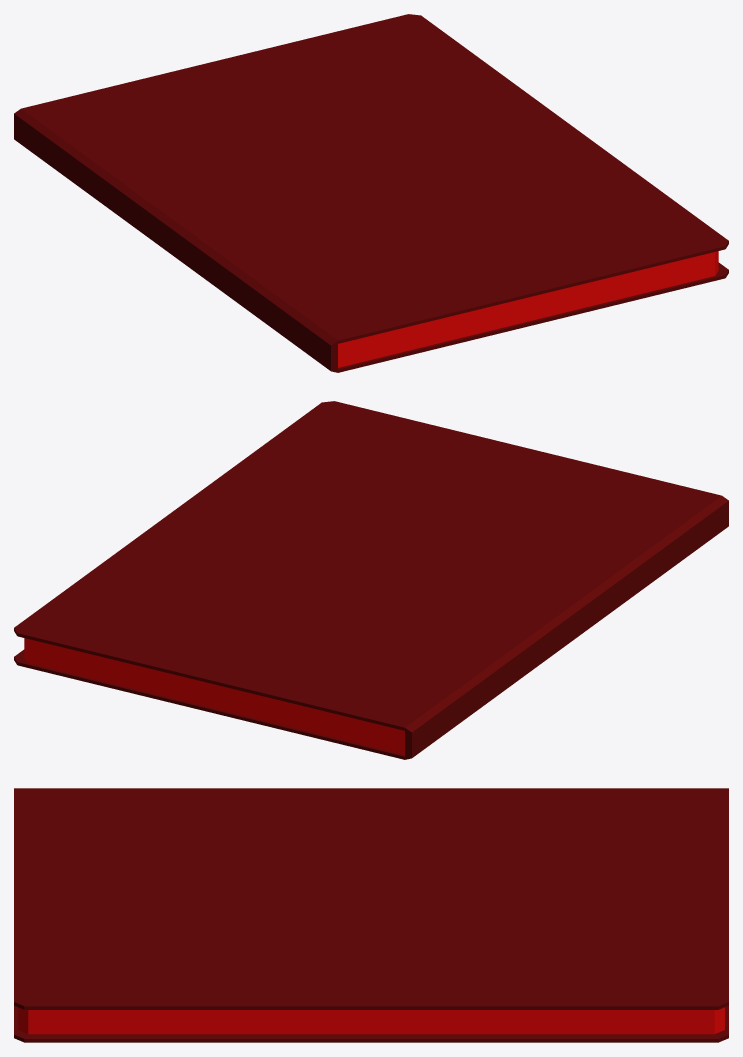
Rendered from SchoolBook.001.glb.
3 views of the same model, one above another, from view 1: azimuth 30°, elevation 25°; view 2: azimuth 150°, elevation 25°; view 3: azimuth 270°, elevation 25° (orthographic). The views are drawn at different scales.
Parts seen in each view (by area): view 1: SchoolBook.001; view 2: SchoolBook.001; view 3: SchoolBook.001.
Boxes of the visible parts, x1,y1,x2,y2 form: SchoolBook.001: (14, 14, 728, 372); SchoolBook.001: (14, 401, 728, 759); SchoolBook.001: (14, 788, 728, 1042).
Size of the model in its own units: 1.78 by 0.1361 by 2.43.
